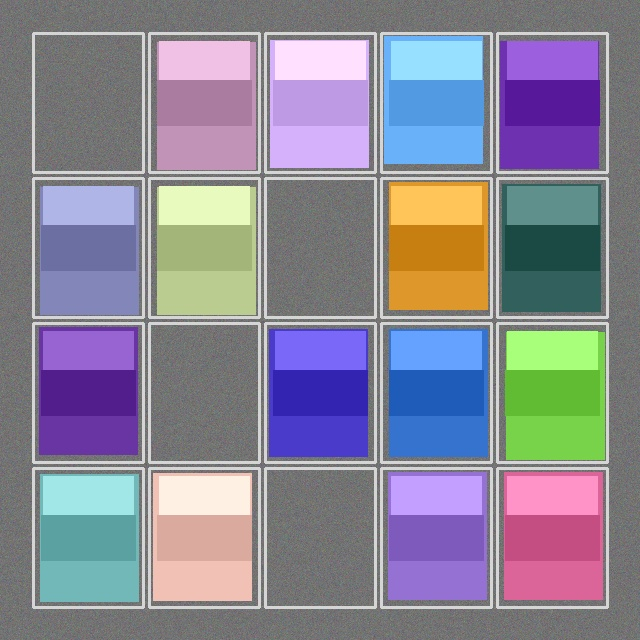space-empty: (35, 35, 141, 170), (267, 180, 373, 315), (151, 325, 257, 460), (267, 470, 373, 605)
space-occupied: (151, 35, 257, 170), (267, 35, 373, 170), (383, 35, 489, 170), (499, 35, 605, 170), (35, 180, 141, 315), (151, 180, 257, 315), (383, 180, 489, 315), (499, 180, 605, 315), (35, 325, 141, 460), (267, 325, 373, 460), (383, 325, 489, 460), (499, 325, 605, 460), (35, 470, 141, 605), (151, 470, 257, 605), (383, 470, 489, 605), (499, 470, 605, 605)
